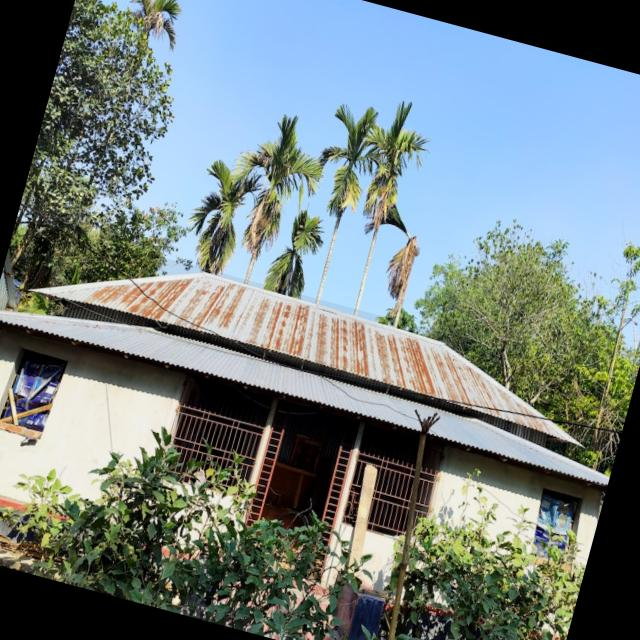House: (0, 218, 634, 640)
